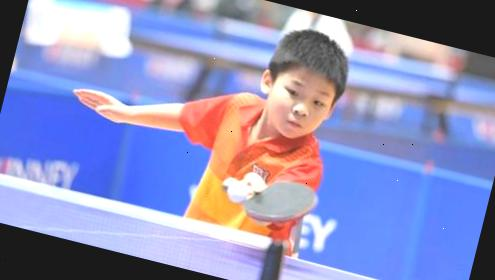ball: (220, 177, 250, 206)
